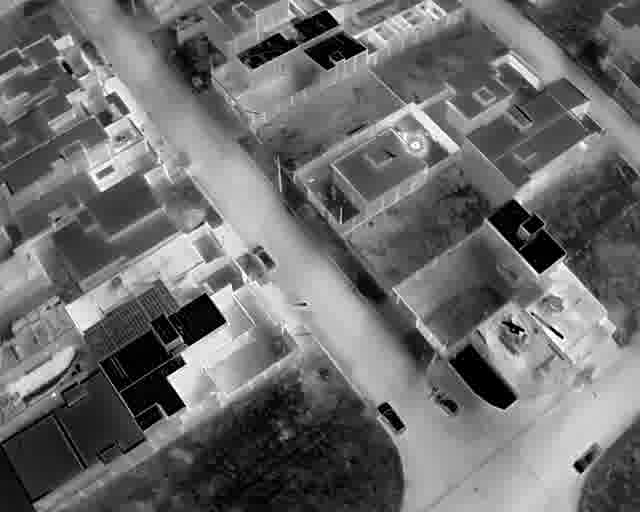car: (572, 442, 602, 475), (377, 402, 407, 435), (250, 244, 276, 271), (434, 393, 462, 417)
motorcycle: (291, 300, 308, 308)
